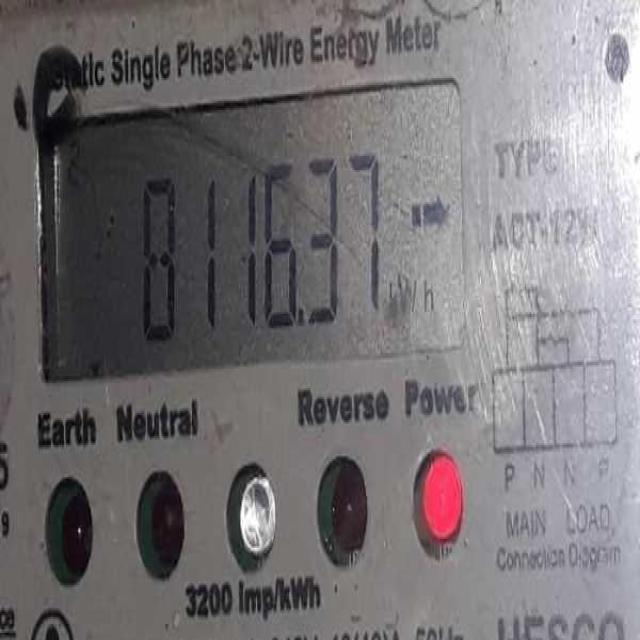1: (202, 162, 224, 339), (243, 169, 263, 340)
3: (306, 154, 342, 326)
6: (262, 162, 298, 332)
7: (351, 149, 386, 313)
8: (140, 173, 184, 348)
Digital meter: (45, 101, 456, 357)
point: (296, 300, 307, 330)
